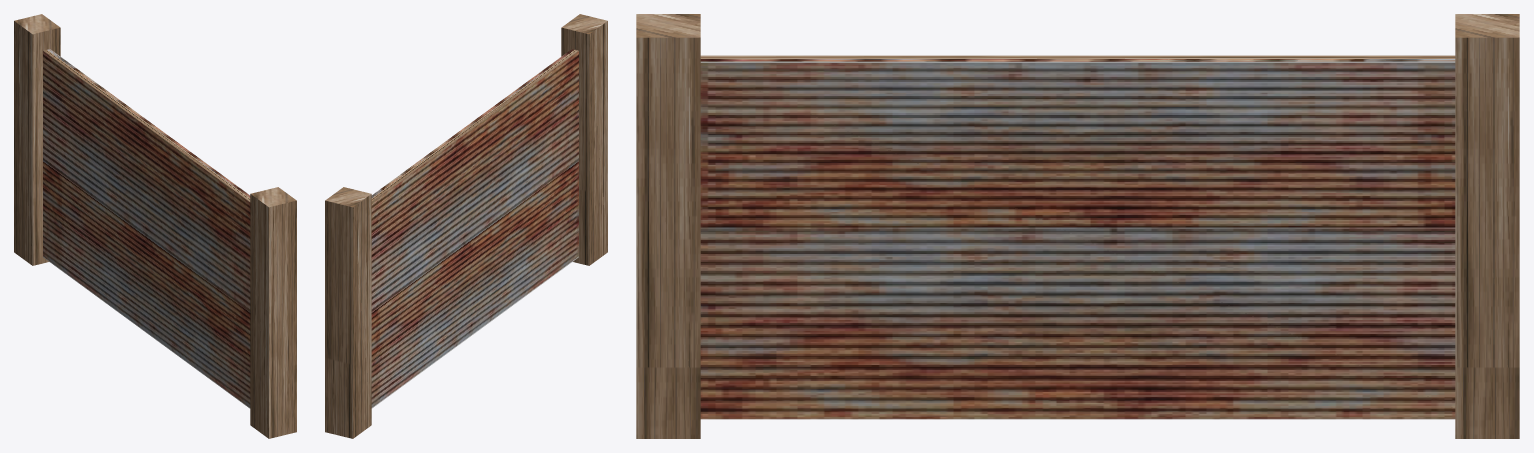
Rendered from Ridged Metal.fbx.
3 views of the same model, side by side, from view 1: azimuth 30°, elevation 25°; view 2: azimuth 150°, elevation 25°; view 3: azimuth 270°, elevation 25° (orthographic). The views are drawn at different scales.
Visible parts, largest first — view 1: Cube, Cube.002, Cube.001; view 2: Cube, Cube.001, Cube.002; view 3: Cube, Cube.001, Cube.002.
Part boxes in pixels (x1,y1,x2,y2): Cube: (43, 49, 250, 408); Cube.002: (250, 187, 296, 438); Cube.001: (14, 14, 60, 265); Cube: (371, 49, 578, 408); Cube.001: (325, 187, 371, 438); Cube.002: (561, 14, 607, 265); Cube: (700, 55, 1455, 419); Cube.001: (1455, 14, 1519, 438); Cube.002: (636, 14, 700, 438).
Bounding box in the file's own units: 81.63 × 648 × 1292.
2 materials, 2 textured.
